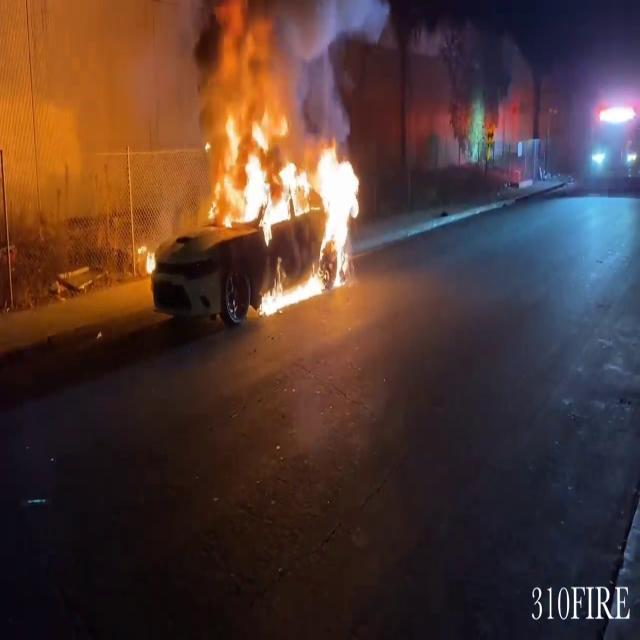Fire: (210, 95, 368, 311)
Smoke: (0, 0, 217, 232), (180, 0, 390, 120)
